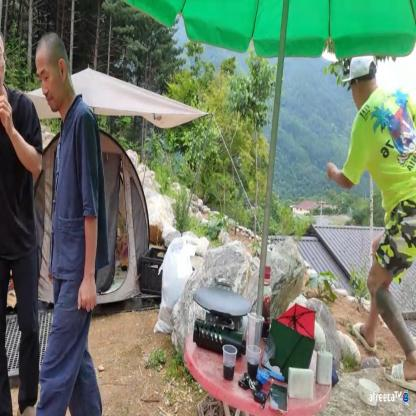streamer: (327, 56, 416, 394), (34, 32, 110, 416), (0, 35, 44, 416)
